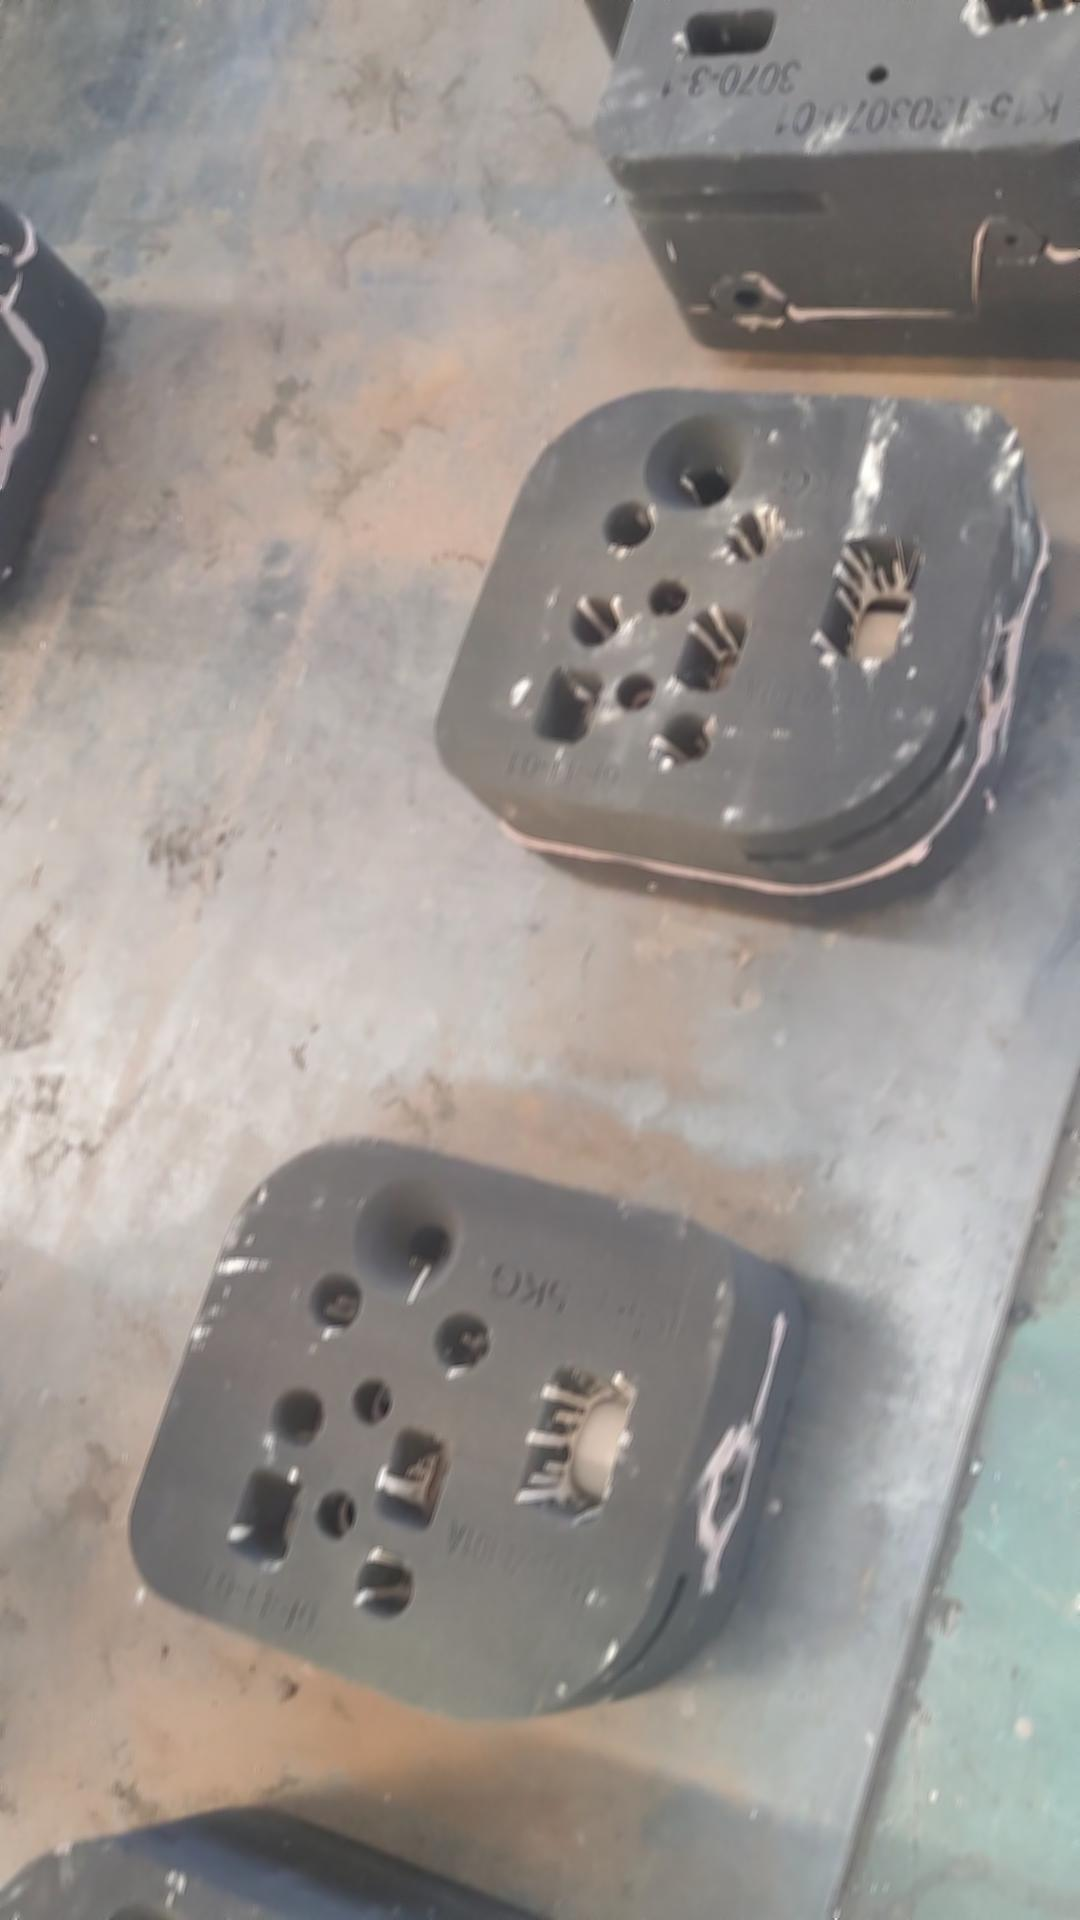pouring hole: (352, 1171, 464, 1298), (645, 411, 754, 510), (103, 1904, 181, 1920)
